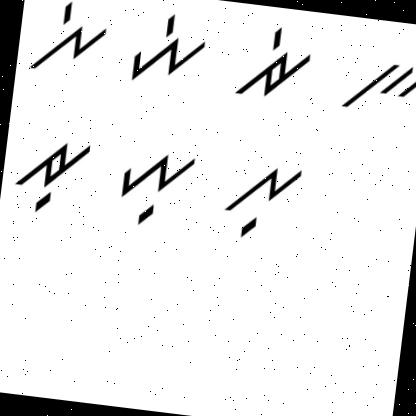le: (24, 0, 114, 80)
lu: (212, 150, 308, 249)
re: (232, 16, 320, 108)
ru: (6, 130, 97, 223)
ye: (124, 5, 211, 91)
yu: (107, 137, 200, 234)
